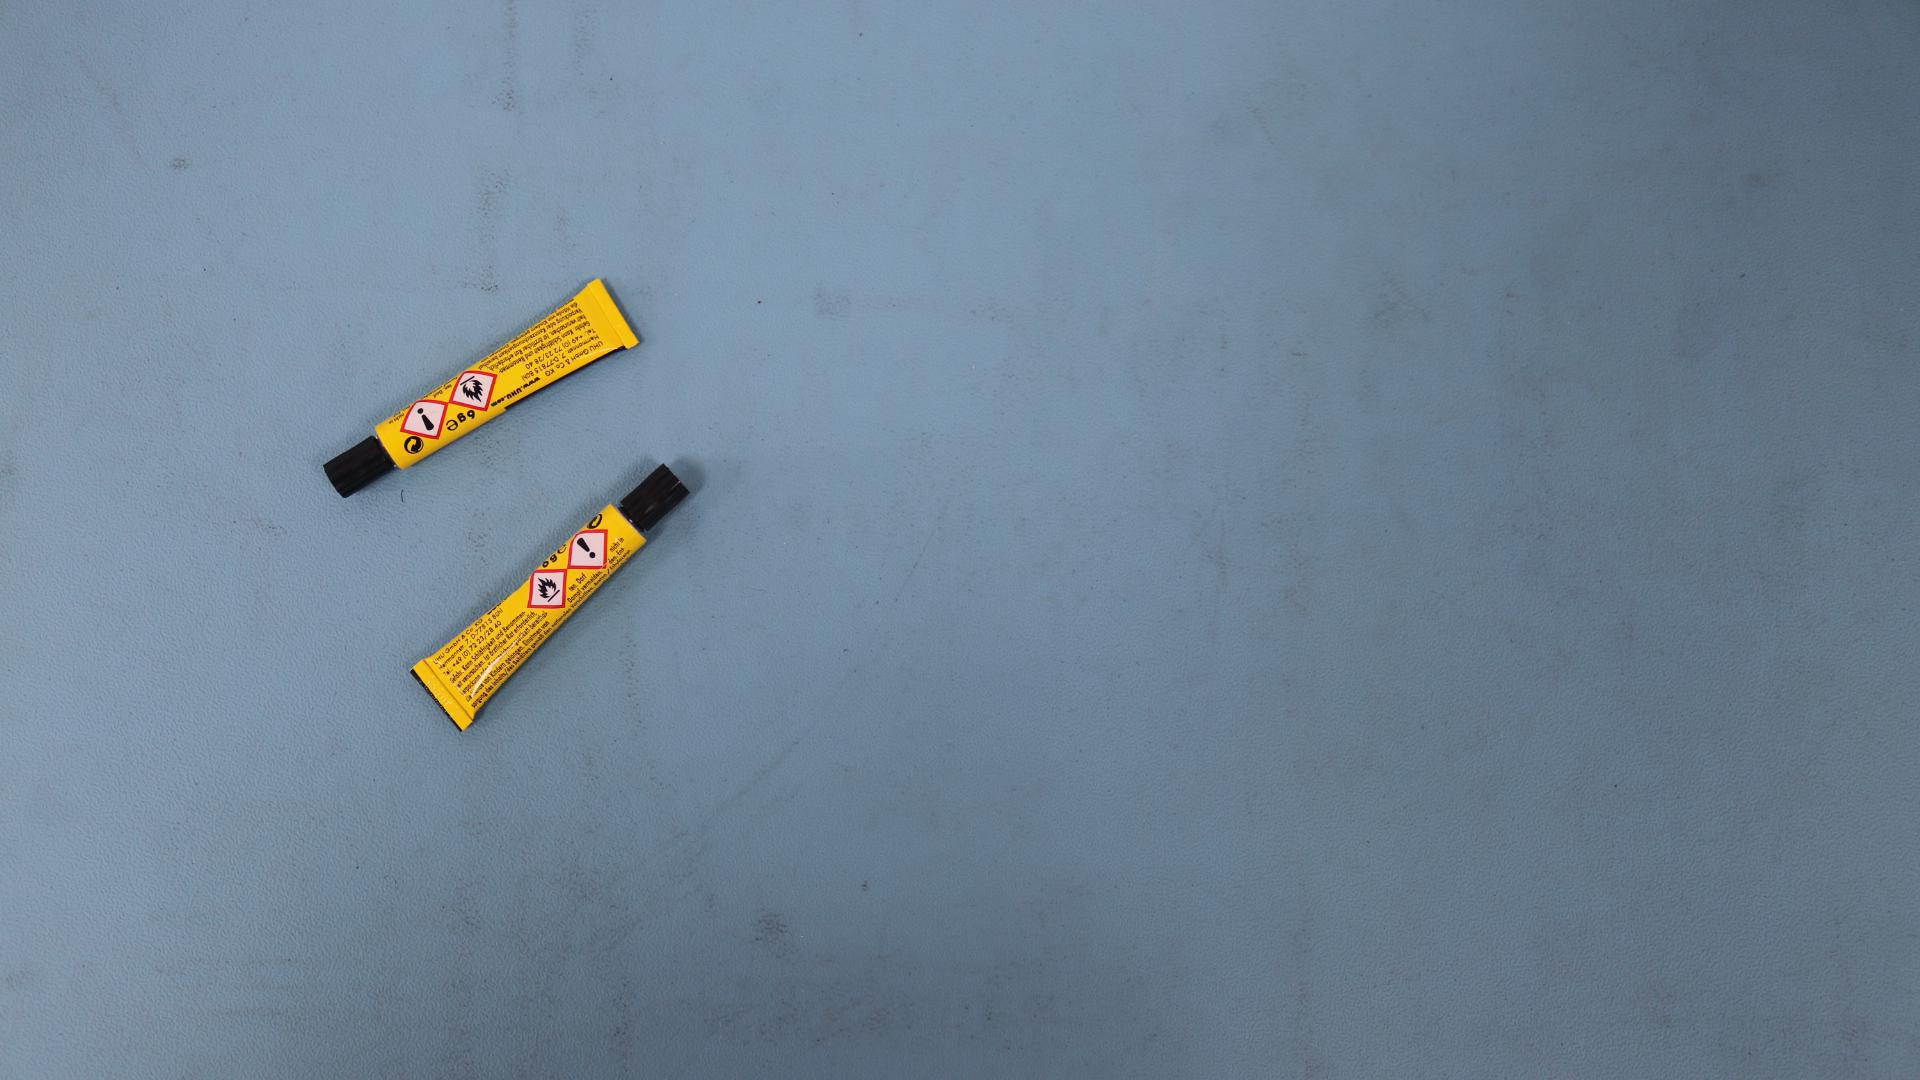Head: (652, 496, 659, 503), (355, 464, 361, 470)
Tail: (439, 693, 447, 701), (611, 311, 618, 318)
Tube: (410, 462, 691, 731), (323, 277, 640, 497)
